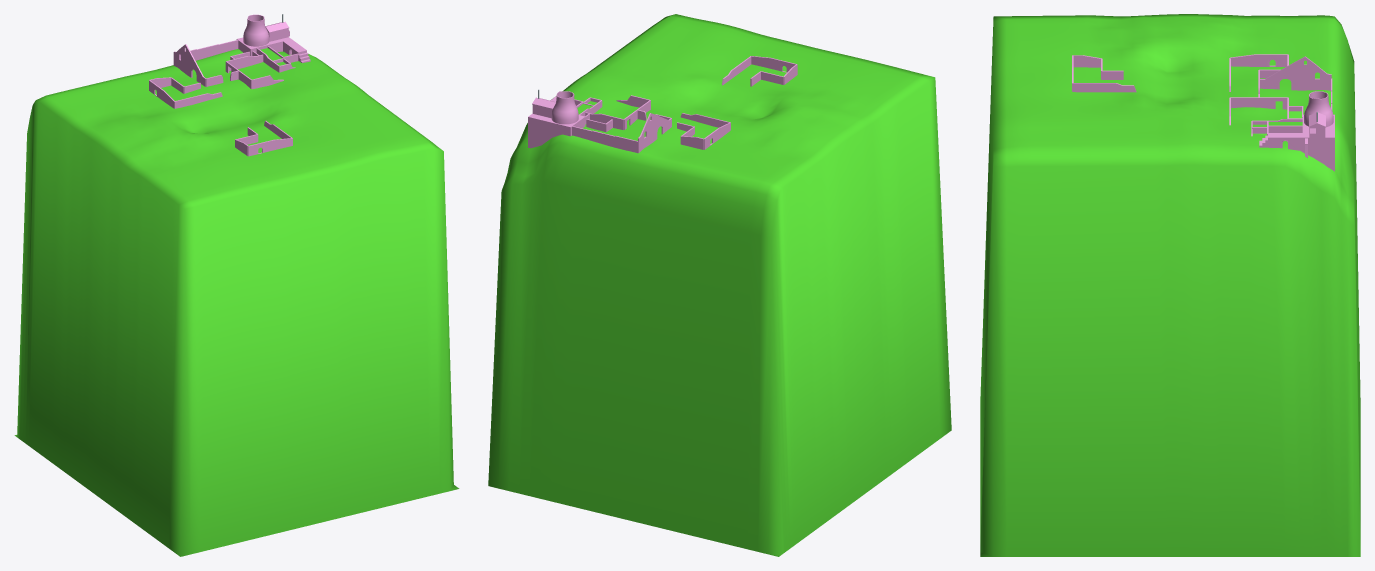
Rendered from Ruins.fbx.
3 views of the same model, side by side, from view 1: azimuth 30°, elevation 25°; view 2: azimuth 150°, elevation 25°; view 3: azimuth 270°, elevation 25° (orthographic). The views are drawn at different scales.
Visible parts, largest first — view 1: RuinsGround, Ruins, RuinsSegment, RuinSmokeStack; view 2: RuinsGround, Ruins, RuinsSegment, RuinSmokeStack; view 3: RuinsGround, Ruins, RuinsSegment, RuinSmokeStack, RuinsBridge.
Part boxes in pixels (x1,y1,x2,y2): RuinsGround: (14, 49, 459, 556); Ruins: (149, 37, 310, 108); RuinsSegment: (235, 121, 292, 156); RuinSmokeStack: (243, 14, 269, 46); RuinsGround: (488, 14, 951, 556); Ruins: (528, 95, 730, 153); RuinsSegment: (722, 56, 797, 86); RuinSmokeStack: (551, 91, 578, 124); RuinsGround: (980, 14, 1360, 556); Ruins: (1229, 54, 1334, 171); RuinsSegment: (1072, 55, 1136, 92); RuinSmokeStack: (1304, 91, 1333, 127); RuinsBridge: (1268, 133, 1302, 151).
Size of the model in its own units: 12709 by 16385 by 13099.
